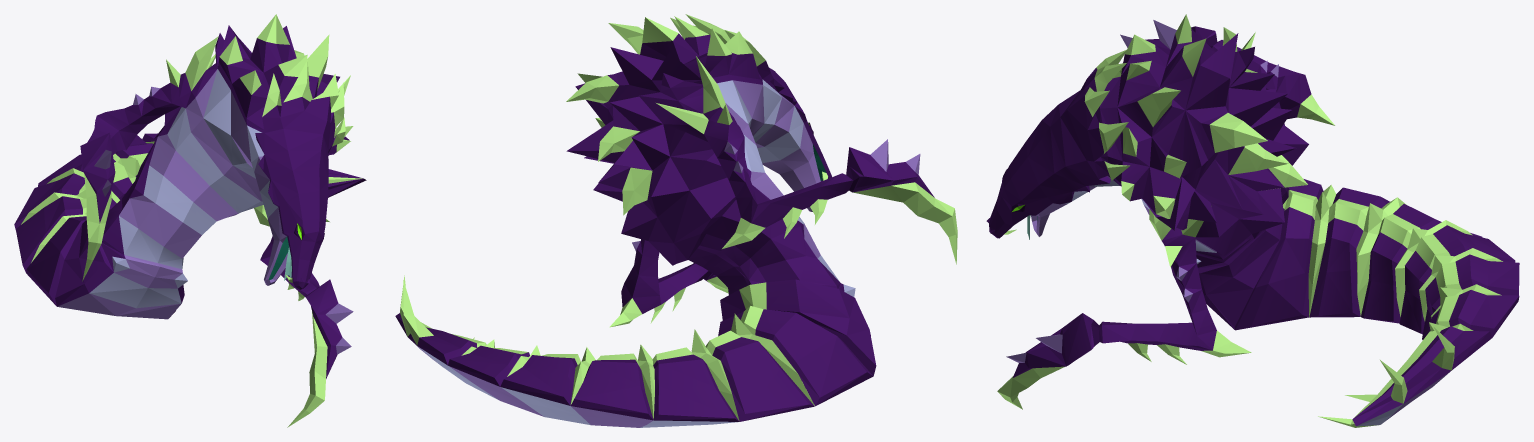
The picture shows the model from 3 angles, left to right: view 1: azimuth 30°, elevation 25°; view 2: azimuth 150°, elevation 25°; view 3: azimuth 270°, elevation 25°; orthographic projection. The views are drawn at different scales.
Visible parts, largest first — view 1: Alien_Serpent; view 2: Alien_Serpent; view 3: Alien_Serpent.
Boxes of the visible parts, <box> form: Alien_Serpent: <box>14,14,366,427</box>; Alien_Serpent: <box>395,14,957,427</box>; Alien_Serpent: <box>986,14,1519,427</box>.
Bounding box in the file's own units: 269 × 229 × 270.
1 material, 1 textured.
